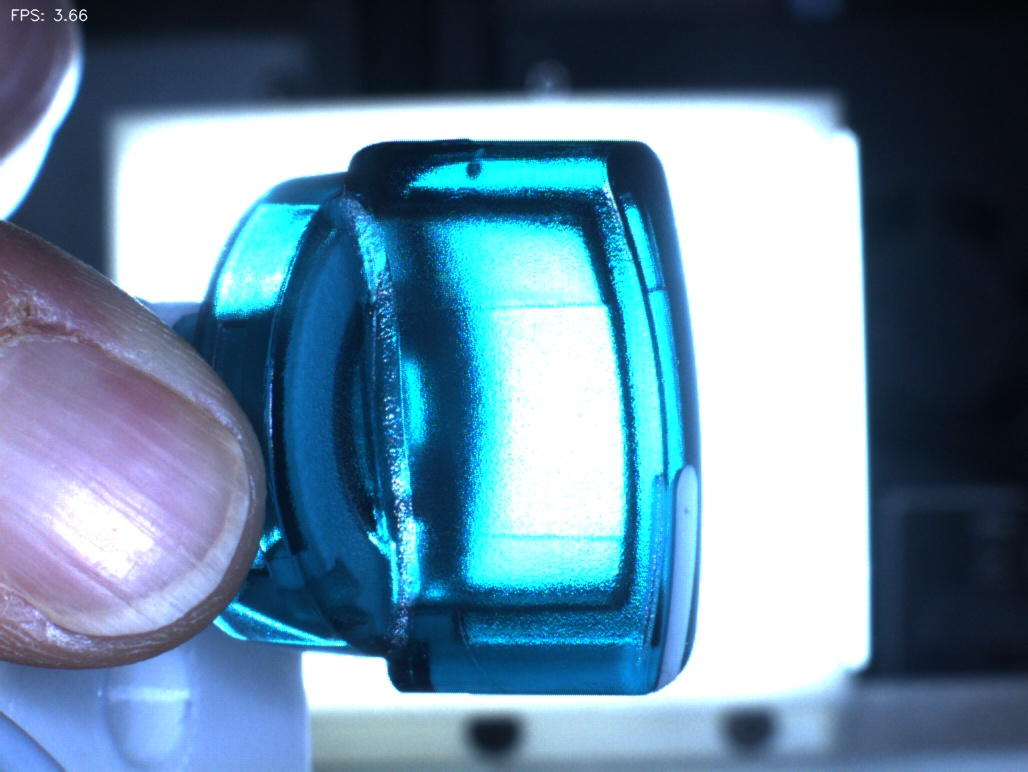Bulle: (432, 123, 516, 214)
